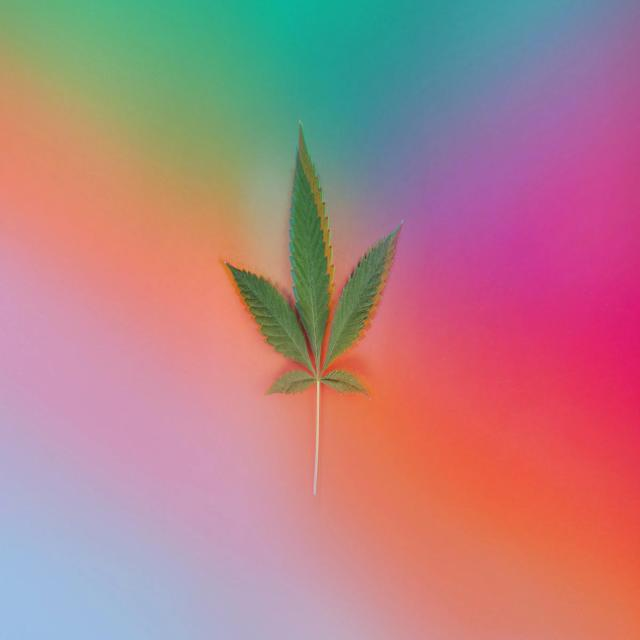cannabis: (221, 115, 403, 496)
